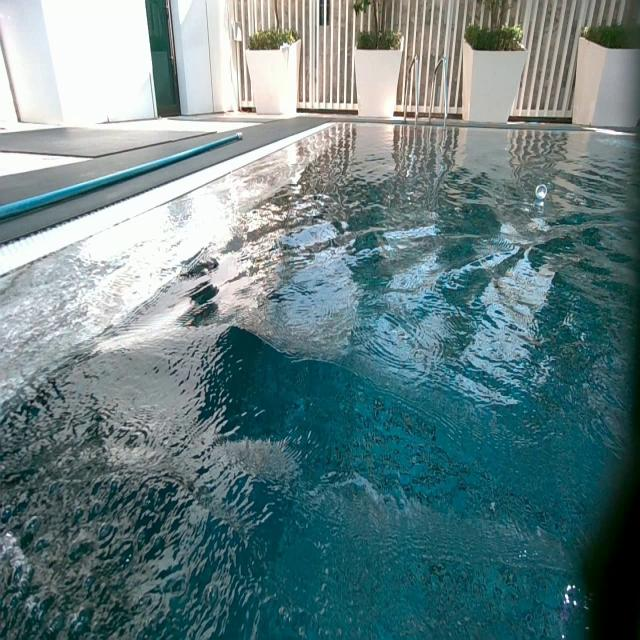Cans: (534, 183, 547, 199)
